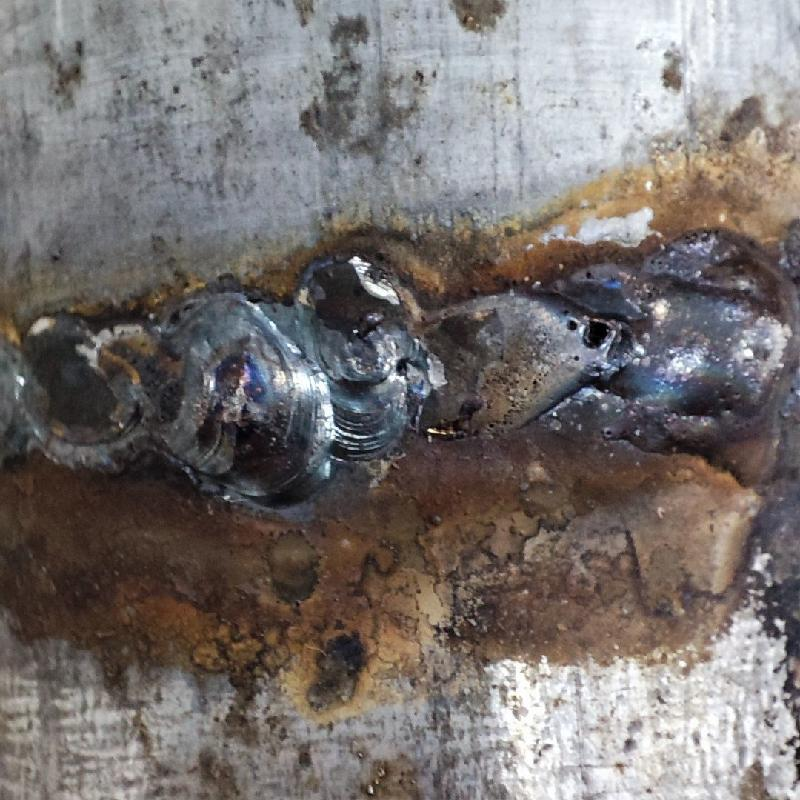Not_fully_soldered: (301, 263, 608, 450)
Surface_pores: (556, 305, 617, 362)
Weld: (605, 214, 799, 491)
wrong_size: (4, 267, 333, 525)
